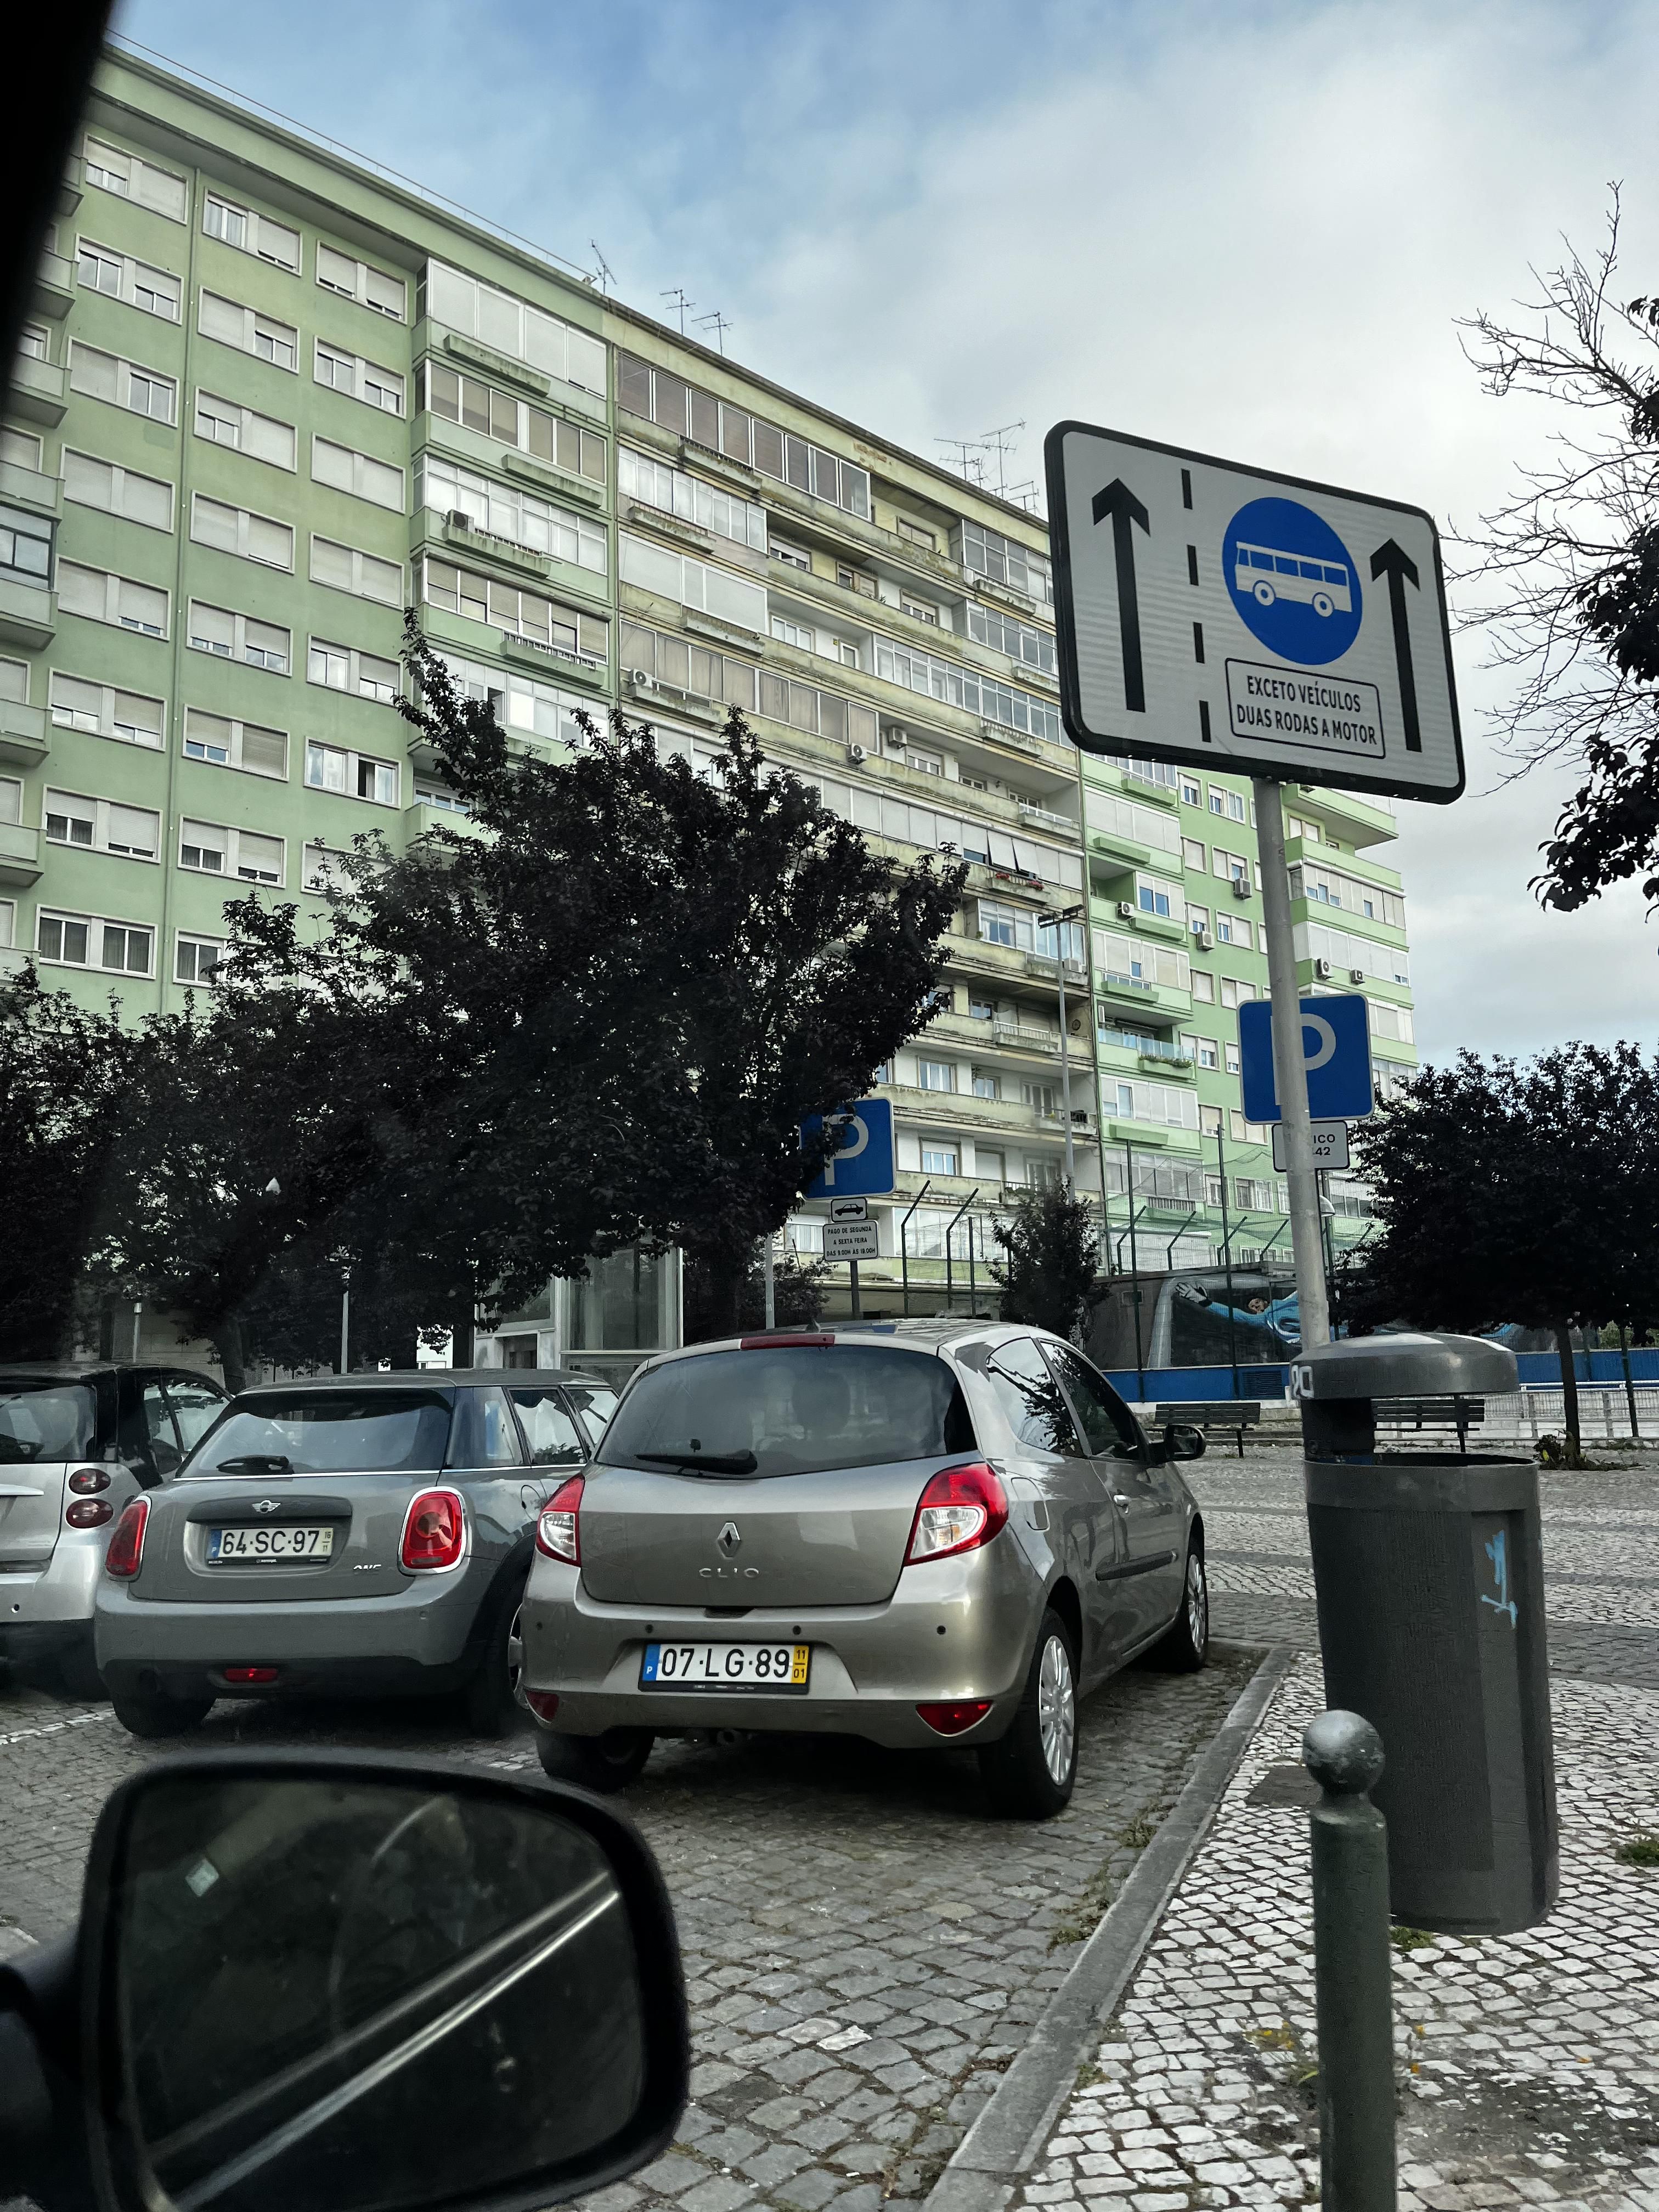Estacionamento autorizado: (1243, 998, 1364, 1120), (793, 1106, 894, 1200)
Fim da via reservada a veiculos de transporte publico: (1192, 475, 1396, 688)
Indicadores de aplicacao: (1211, 658, 1396, 766)
Indicadores de veiculos a que se aplica a regulamentacao: (830, 1198, 866, 1223)
Indicadores do inicio ou fim do local regulamentado: (1061, 420, 1204, 752), (1351, 489, 1462, 799)
